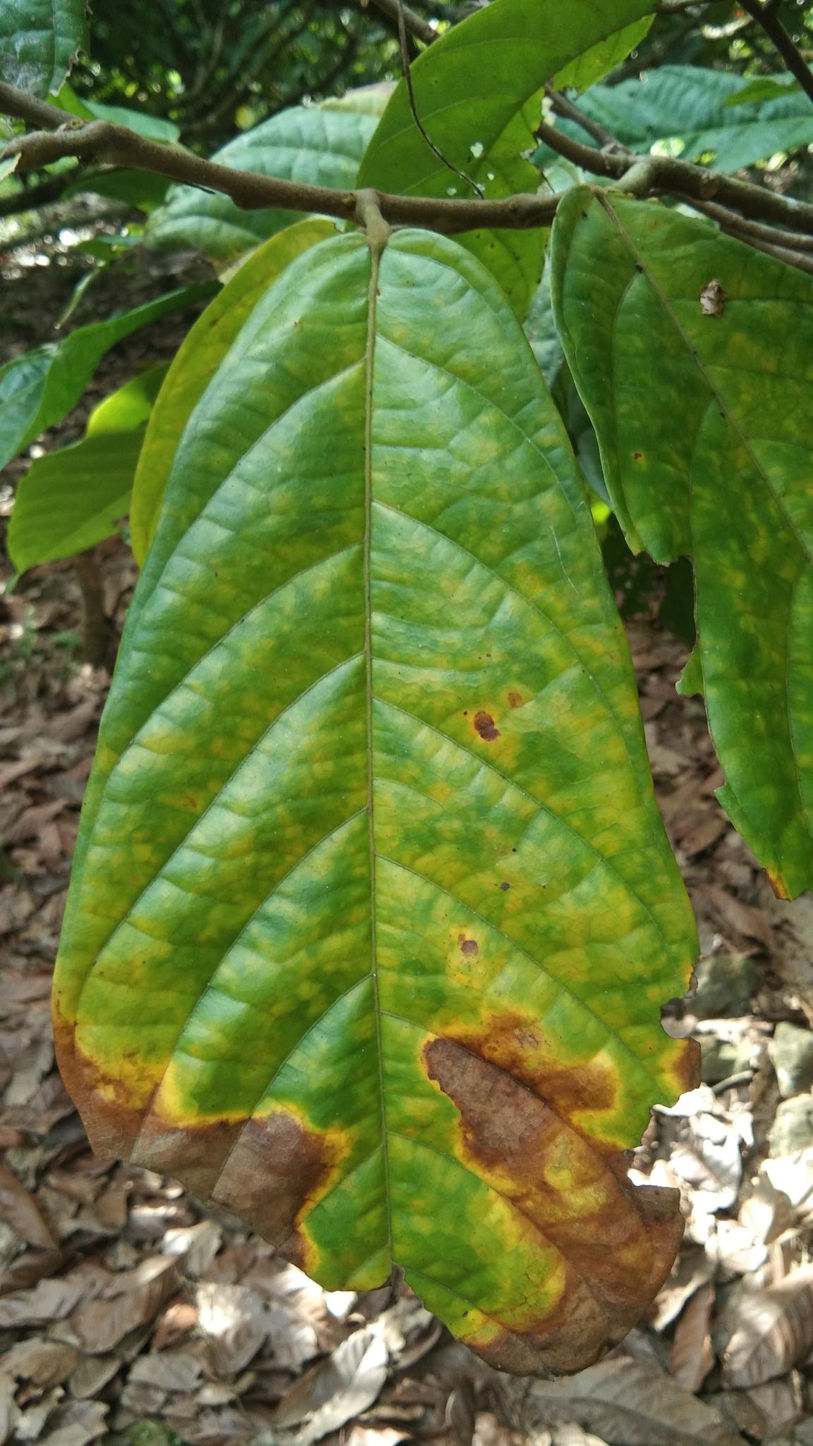Fosforo: (47, 220, 697, 1374)
